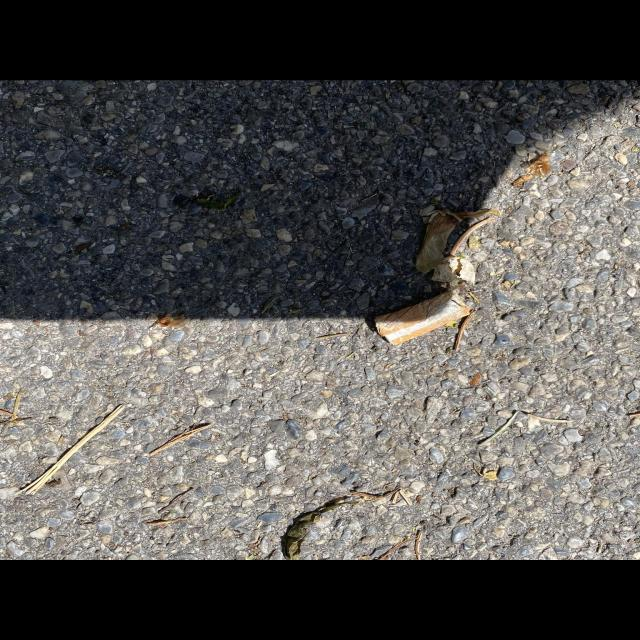other waste: (374, 286, 473, 346)
